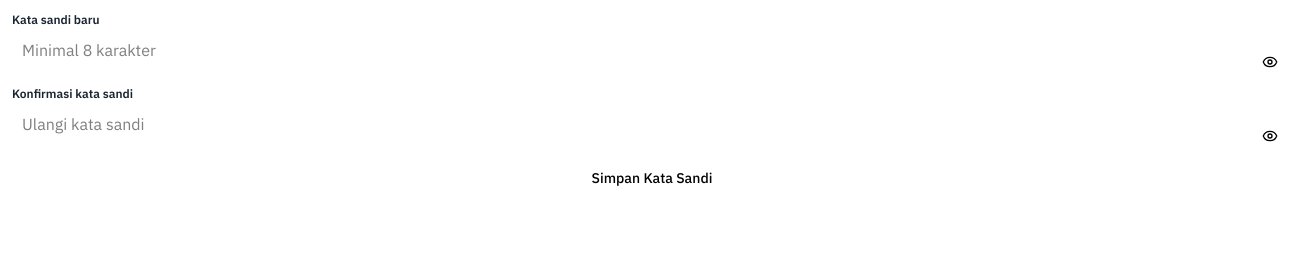
Formulir perbarui kata sandi Neon Auth › menolak jika token reset tidak tersedia
Step 1. Type "rahasia123" into the password field labelled "Kata sandi baru" → (652, 50), box [12,34,1292,66]
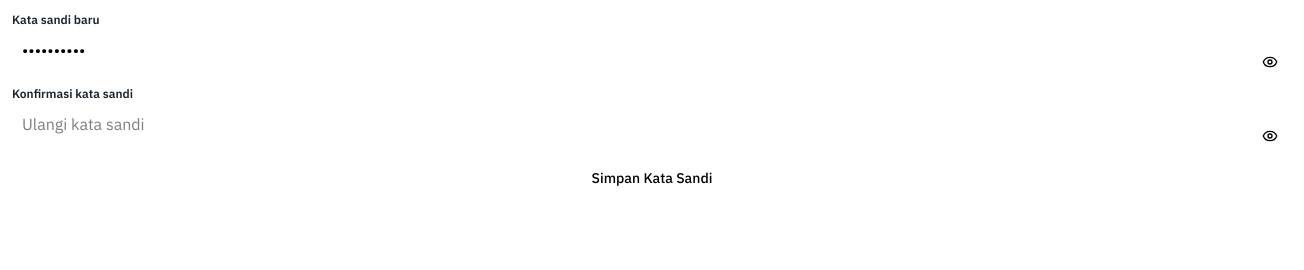
Step 2. Type "rahasia123" into the password field labelled "Konfirmasi kata sandi" → (652, 124), box [12,108,1292,140]
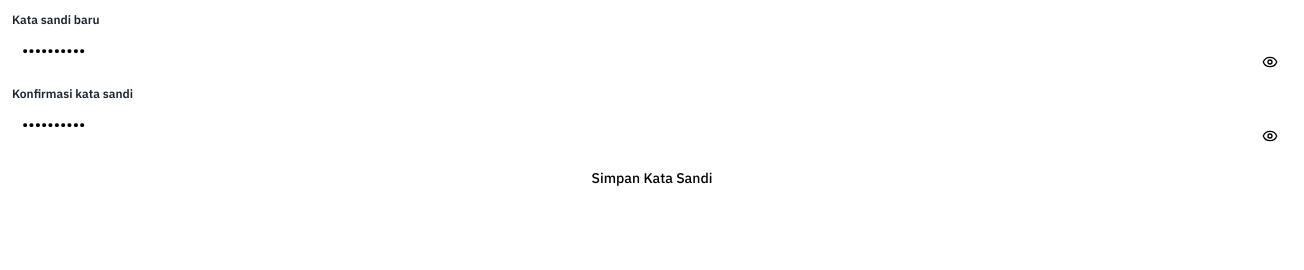
Step 3. Submit the form labelled "Kata sandi baru"
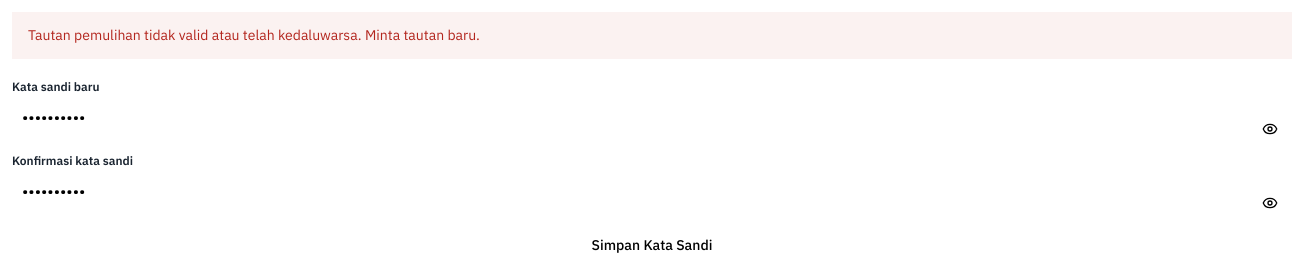
Expected: the text "Tautan pemulihan tidak valid atau telah kedaluwarsa. Minta tautan baru." is shown, [12,12,1292,59]
